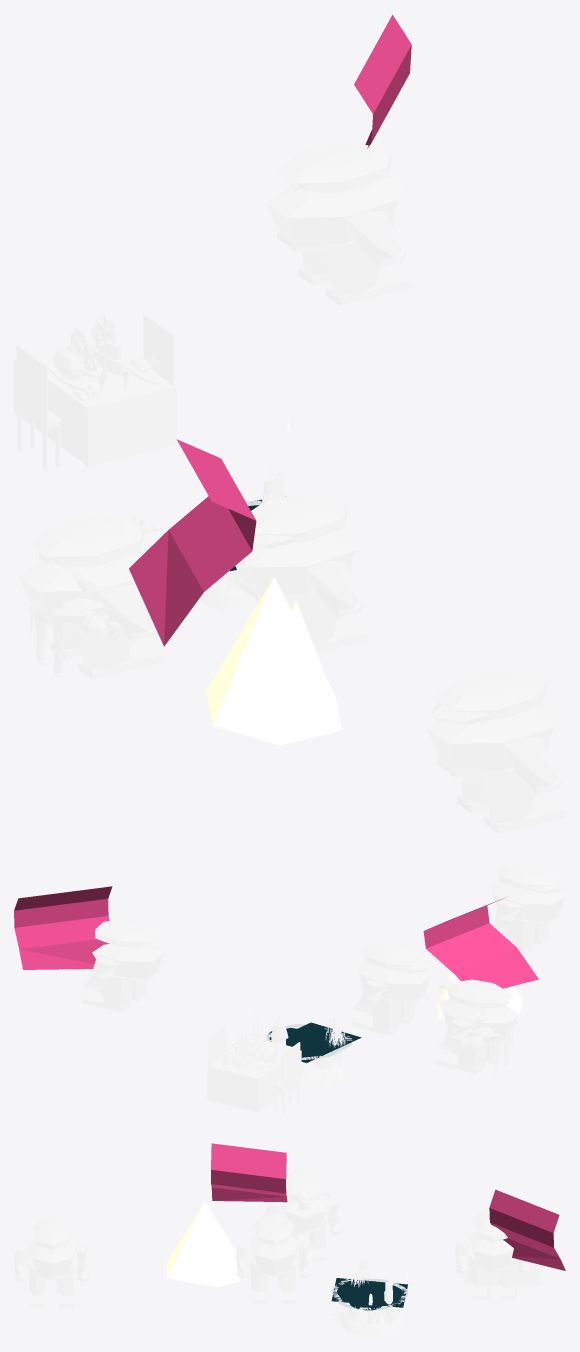
The model's file is ile-ambre-v5.glb.
3 views of the same model, one above another, from view 1: azimuth 30°, elevation 25°; view 2: azimuth 150°, elevation 25°; view 3: azimuth 270°, elevation 25° (orthographic). The views are drawn at different scales.
Parts seen in each view (by area): view 1: ile_anime0.020, ile_copie0.012, ile_anime3.018, ile_libre0.018, ile_anime1.020, ile_anime2.020, ile_banniere1.006, ile_anime4.014, ile_banniere0.008, ile_corps.020, ile_copie1.008; view 2: ile_banniere0.008, ile_anime0.020, ile_banniere1.006, ile_anime2.020, ile_copie0.012, ile_anime3.018, ile_anime1.020, ile_corps.020, ile_libre1.010, ile_anime4.014, ile_libre0.018, ile_copie1.008; view 3: ile_anime2.020, ile_anime3.018, ile_banniere1.006, ile_libre0.018, ile_banniere0.008, ile_copie0.012, ile_anime1.020, ile_corps.020, ile_libre1.010, ile_anime0.020, ile_anime4.014.
Part boxes in pixels (box(x1,y1,x2,y2)): ile_anime0.020: box(14, 313, 177, 470); ile_copie0.012: box(266, 142, 411, 305); ile_anime3.018: box(427, 670, 565, 833); ile_libre0.018: box(206, 577, 341, 745); ile_anime1.020: box(19, 516, 164, 679); ile_anime2.020: box(235, 494, 368, 652); ile_banniere1.006: box(129, 439, 256, 646); ile_anime4.014: box(29, 510, 159, 677); ile_banniere0.008: box(354, 14, 411, 148); ile_corps.020: box(199, 441, 285, 614); ile_copie1.008: box(30, 517, 156, 676); ile_banniere0.008: box(14, 886, 112, 969); ile_anime0.020: box(207, 1019, 301, 1114); ile_banniere1.006: box(423, 897, 538, 988); ile_anime2.020: box(352, 941, 431, 1035); ile_copie0.012: box(81, 918, 164, 1012); ile_anime3.018: box(490, 862, 565, 956); ile_anime1.020: box(435, 979, 519, 1074); ile_corps.020: box(271, 1017, 349, 1091); ile_libre1.010: box(264, 1022, 361, 1062); ile_anime4.014: box(438, 976, 513, 1073); ile_libre0.018: box(438, 972, 522, 1021); ile_copie1.008: box(439, 979, 513, 1072); ile_anime2.020: box(236, 1214, 312, 1304); ile_anime3.018: box(14, 1218, 90, 1307); ile_banniere1.006: box(211, 1143, 287, 1202); ile_libre0.018: box(167, 1201, 241, 1287); ile_banniere0.008: box(489, 1189, 565, 1270); ile_copie0.012: box(455, 1209, 530, 1299); ile_anime1.020: box(266, 1170, 342, 1260); ile_corps.020: box(331, 1257, 408, 1337); ile_libre1.010: box(331, 1278, 408, 1310); ile_anime0.020: box(463, 1234, 540, 1298); ile_anime4.014: box(266, 1189, 342, 1250).
Size of the model in its own units: 9.7 by 5.56 by 14.41.
